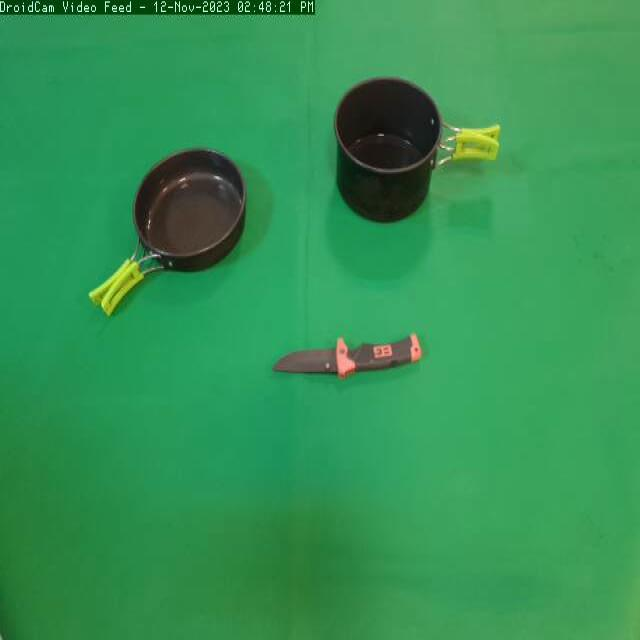knife: (266, 325, 429, 398)
pan: (80, 138, 248, 319)
pot: (330, 72, 507, 240)
